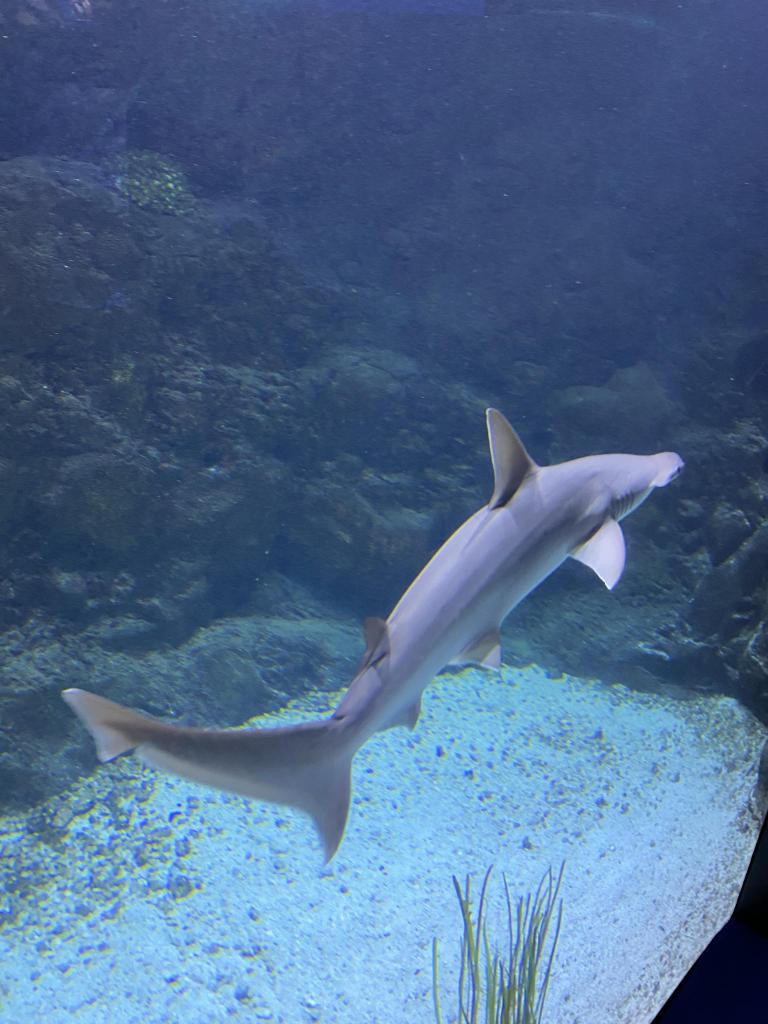shark: (66, 412, 688, 870)
